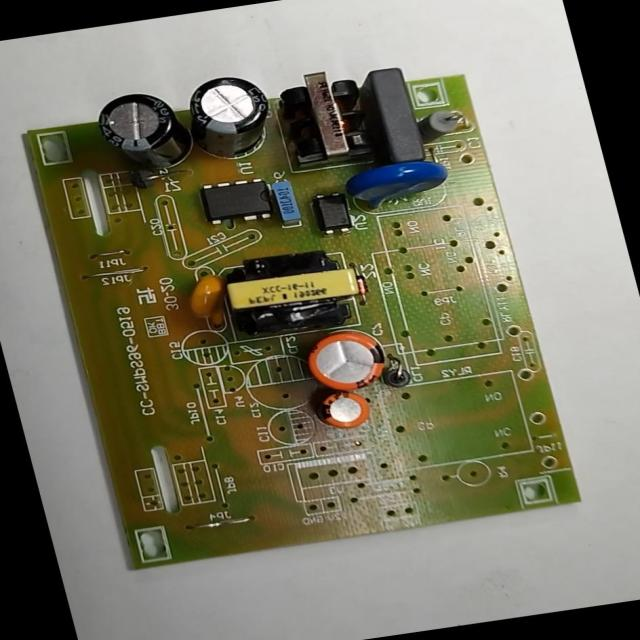Cap1: (292, 322, 398, 400)
Cap2: (309, 384, 378, 434)
Cap3: (170, 67, 284, 165)
Cap4: (84, 79, 202, 181)
MOSFET: (191, 172, 283, 231)
Mov: (338, 152, 459, 216)
Resistor: (412, 103, 467, 145)
Transformer: (210, 238, 372, 346), (266, 63, 381, 174)
